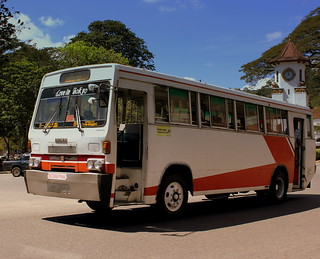bus: (24, 62, 314, 219)
